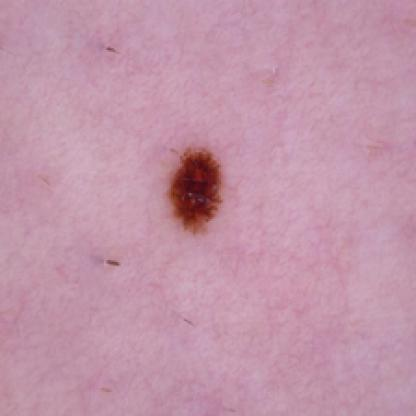benign: (158, 143, 228, 232)
